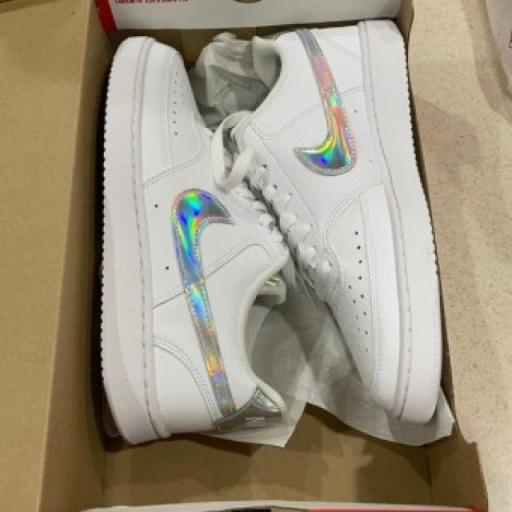Nike: (160, 184, 254, 424)
